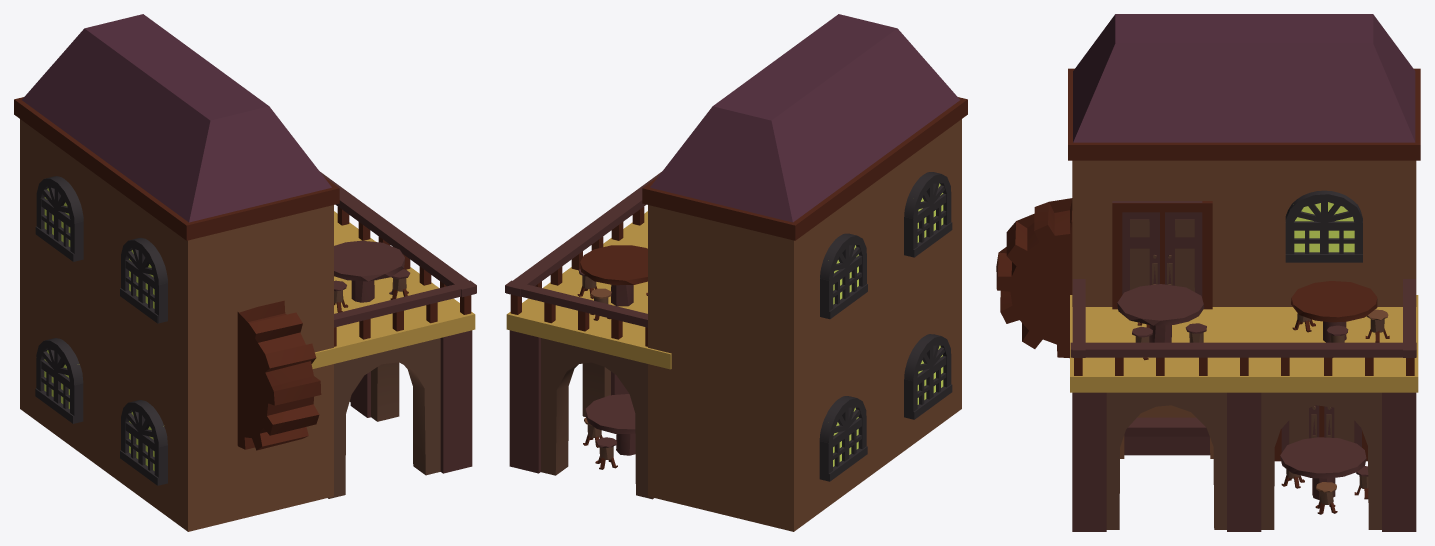
Rendered from Building6.fbx.
The picture shows the model from 3 angles, left to right: view 1: azimuth 30°, elevation 25°; view 2: azimuth 150°, elevation 25°; view 3: azimuth 270°, elevation 25°; orthographic projection. The views are drawn at different scales.
Visible parts, largest first — view 1: restaurant; view 2: restaurant; view 3: restaurant.
Boxes of the visible parts, <box> form: restaurant: <box>14,14,476,531</box>; restaurant: <box>505,14,967,531</box>; restaurant: <box>996,14,1420,531</box>.
Bounding box in the file's own units: 770 × 957 × 925.
